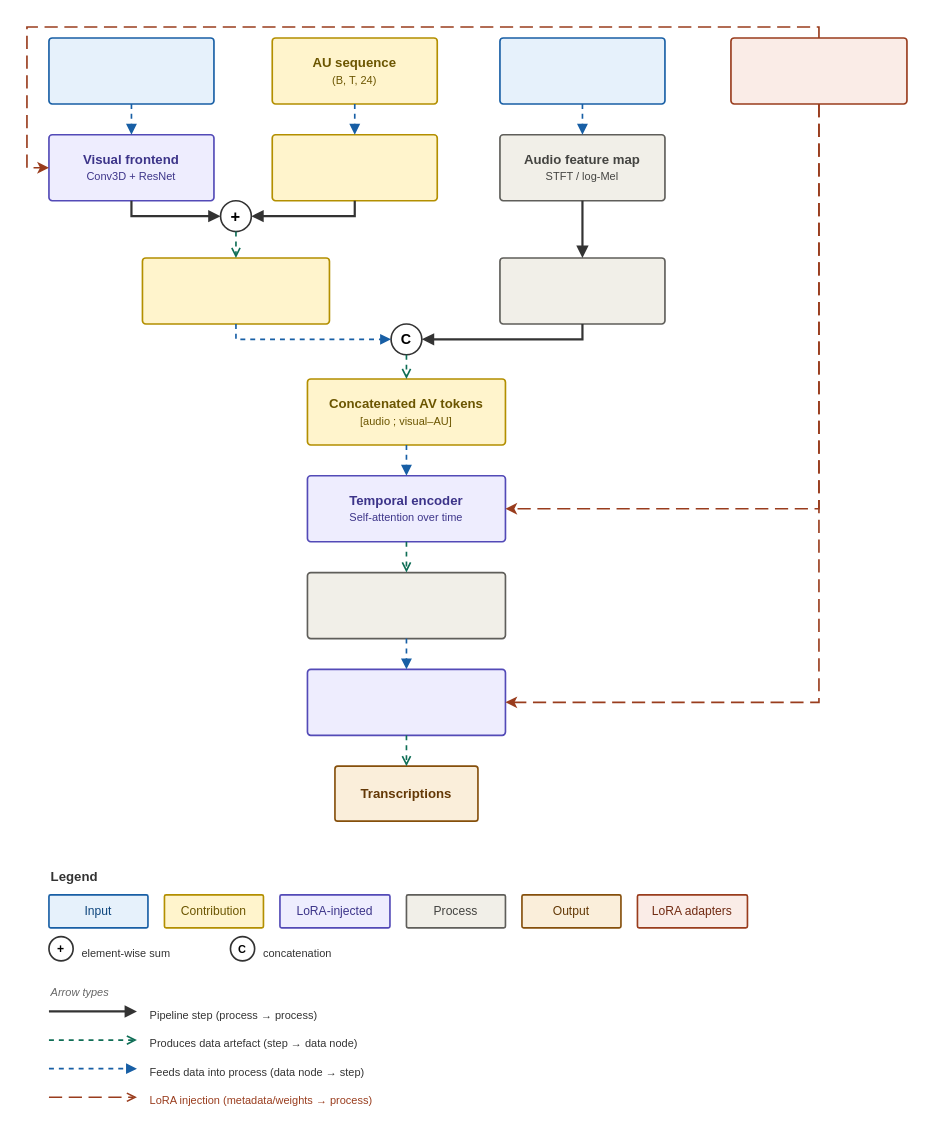
The diagram is 927 pixels wide and 1129 high, and some of its shapes have lost their labels. The box of each missing label's shape, as (x1, y1, x2, y2) in pixels:
AU frontend Time align + MLP: (271, 133, 438, 201)
Audio frontend 2D conv stack: (499, 257, 665, 324)
AV encoder output Contextual tokens: (306, 571, 506, 639)
Beam search decoder CTC + Attention + LM: (306, 668, 506, 736)
Fused visual–AU tokens z_t = v_t + au_t: (141, 257, 330, 324)
LoRA adapters Low-rank updates: (730, 37, 907, 104)
Mouth crop clip (B, T, H, W): (48, 37, 214, 104)
Raw audio track 16 kHz waveform: (499, 37, 665, 104)
